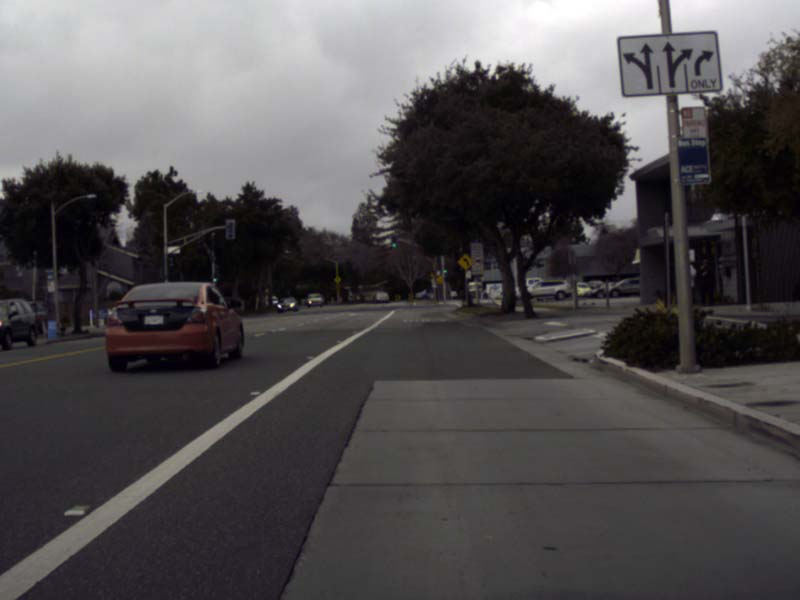Green: (390, 234, 397, 248), (443, 268, 448, 280), (213, 272, 217, 282)
